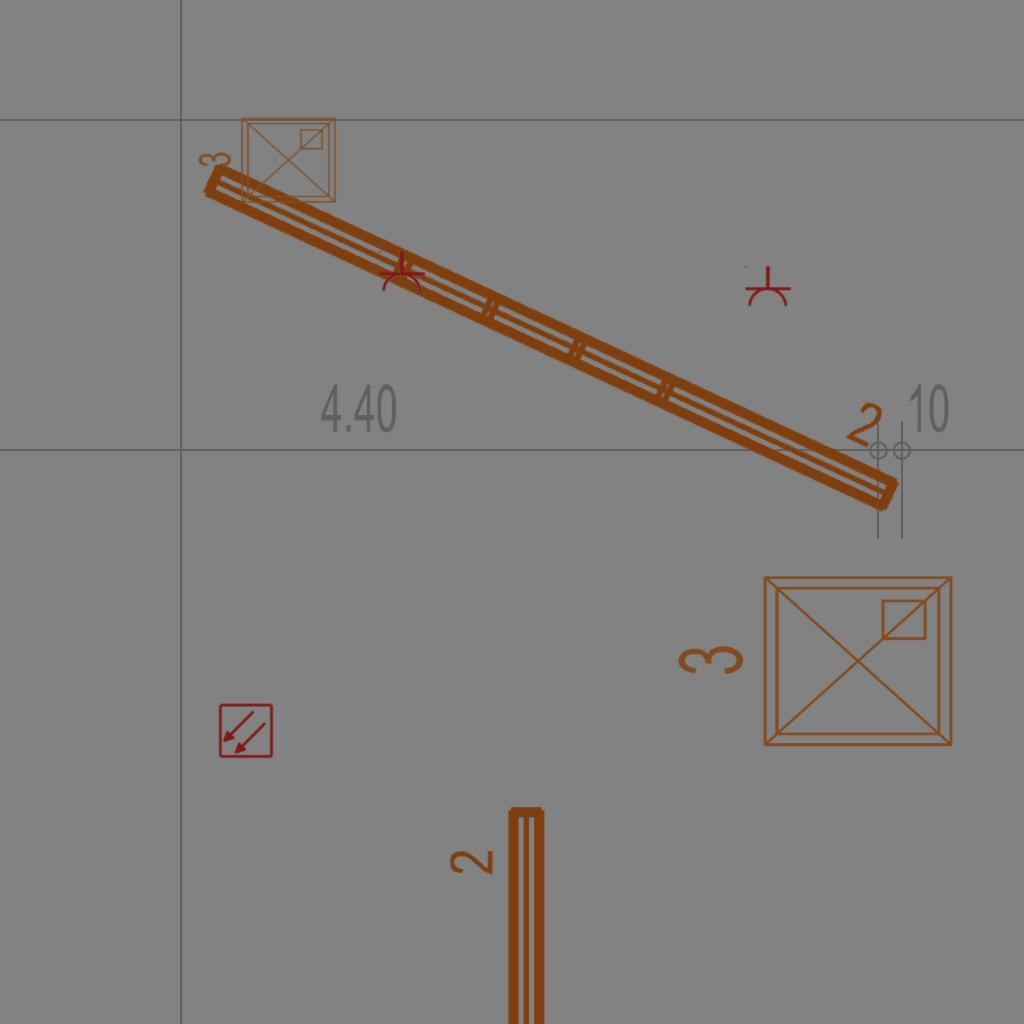Ambulanz_Pendelleuchte_LED: (186, 99, 936, 529), (445, 798, 557, 1024)
Einbaudownlights_LED_Konferenzraeume: (667, 561, 967, 769), (193, 110, 343, 214)
RMO_Rauchmelder_optischer: (218, 703, 274, 759)
Schukosteckdose_einfach: (742, 265, 792, 308), (376, 250, 426, 293)
